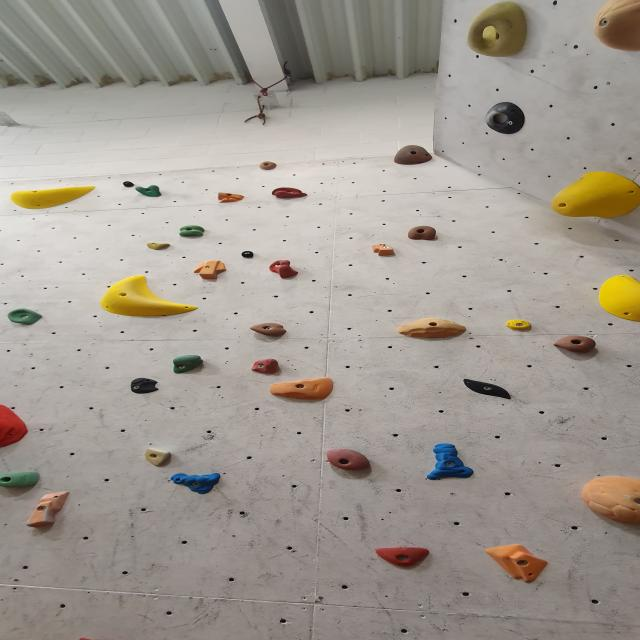Crimp: (393, 317, 470, 340), (268, 378, 338, 402), (0, 402, 31, 456), (168, 474, 223, 496), (142, 446, 174, 466), (270, 186, 310, 199), (502, 321, 533, 334), (215, 191, 248, 202)
Jug: (464, 1, 531, 58), (371, 547, 434, 569), (324, 449, 375, 472), (550, 336, 602, 355), (392, 144, 436, 166), (4, 308, 46, 328), (1, 469, 43, 488), (171, 354, 207, 374), (266, 260, 302, 280), (249, 322, 291, 337), (250, 358, 283, 376), (404, 224, 441, 240), (177, 224, 207, 238), (134, 184, 164, 198), (258, 160, 282, 170)
Pinch: (426, 444, 476, 482), (26, 490, 76, 523), (193, 261, 231, 282), (366, 242, 402, 258), (145, 241, 175, 252), (237, 249, 258, 258), (121, 180, 135, 187)
Pocket: (484, 102, 528, 136)
Sloper: (96, 276, 202, 320), (546, 172, 640, 221), (580, 476, 640, 527), (483, 544, 553, 583), (591, 1, 640, 54), (7, 186, 98, 212), (596, 273, 640, 322), (455, 376, 516, 400), (127, 379, 162, 395)
